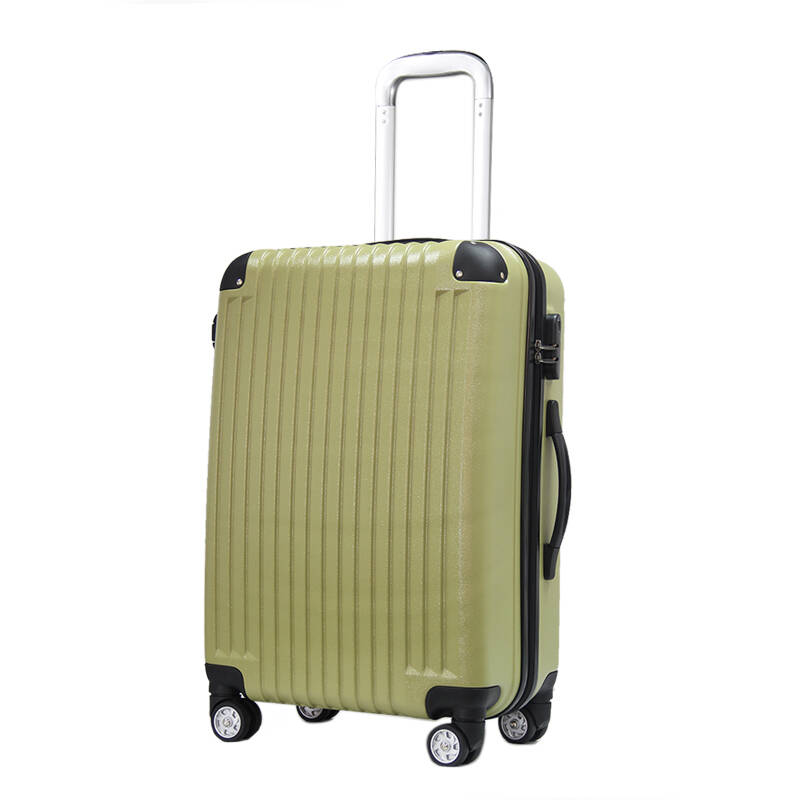luggage: (200, 49, 574, 767)
